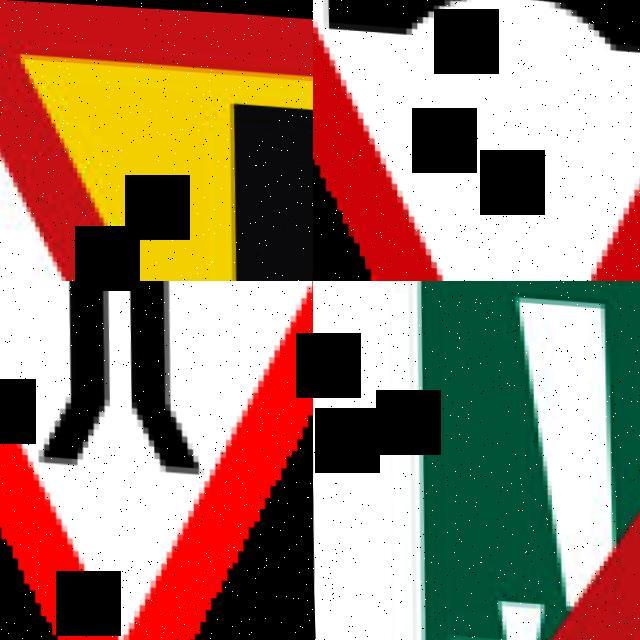166: (0, 0, 313, 281)
76: (392, 281, 640, 640)
Dip: (313, 0, 640, 281)
Narrow bridge: (0, 281, 313, 640)
